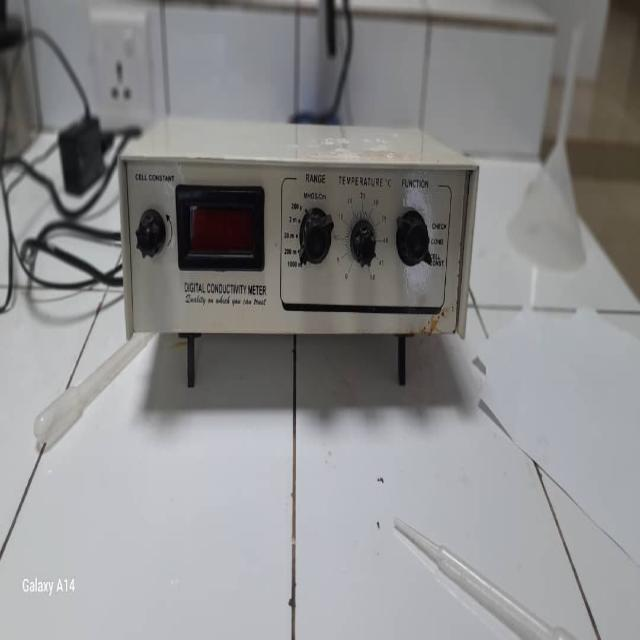Conductivity Meter: (114, 132, 487, 344)
